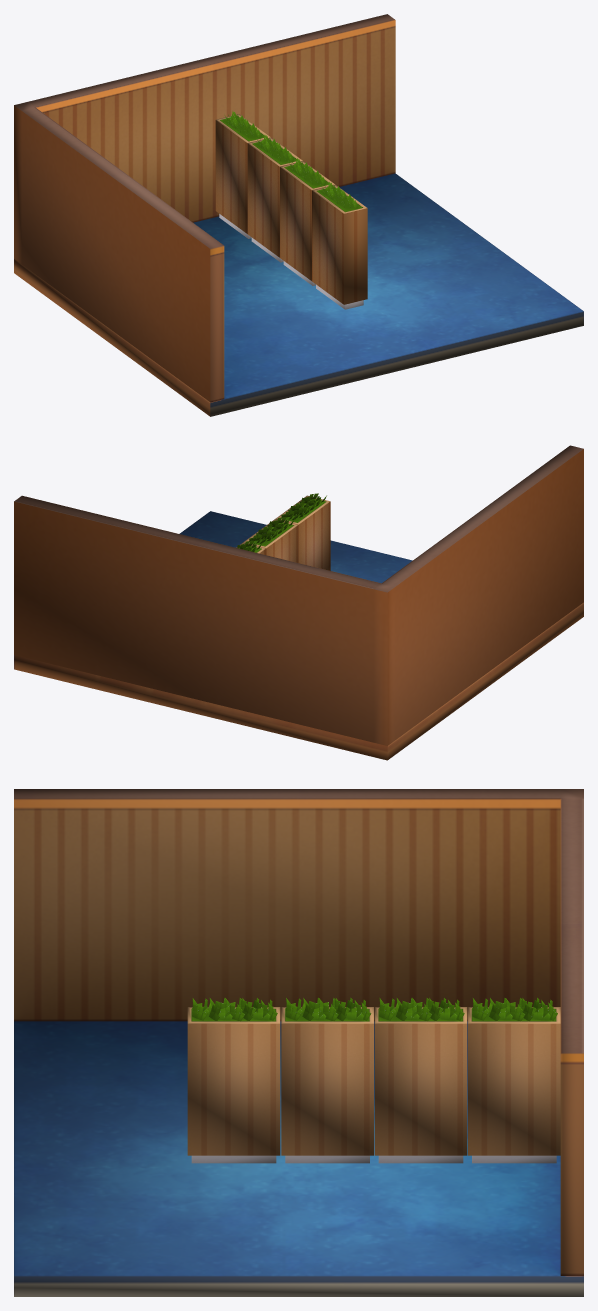
Rendered from fangjiansheding2.FBX.
3 renders of one model, top to bottom at view 1: azimuth 30°, elevation 25°; view 2: azimuth 150°, elevation 25°; view 3: azimuth 270°, elevation 25°, orthographic. The views are drawn at different scales.
Visible parts, largest first — view 1: Object006; view 2: Object006; view 3: Object006.
Boxes of the visible parts, x1=… form: Object006: x1=14, y1=14, x2=583, y2=416; Object006: x1=14, y1=445, x2=583, y2=760; Object006: x1=14, y1=789, x2=583, y2=1296.
Size of the model in its own units: 1350 by 580 by 1230.
Materials: 1 (1 with a texture image).
